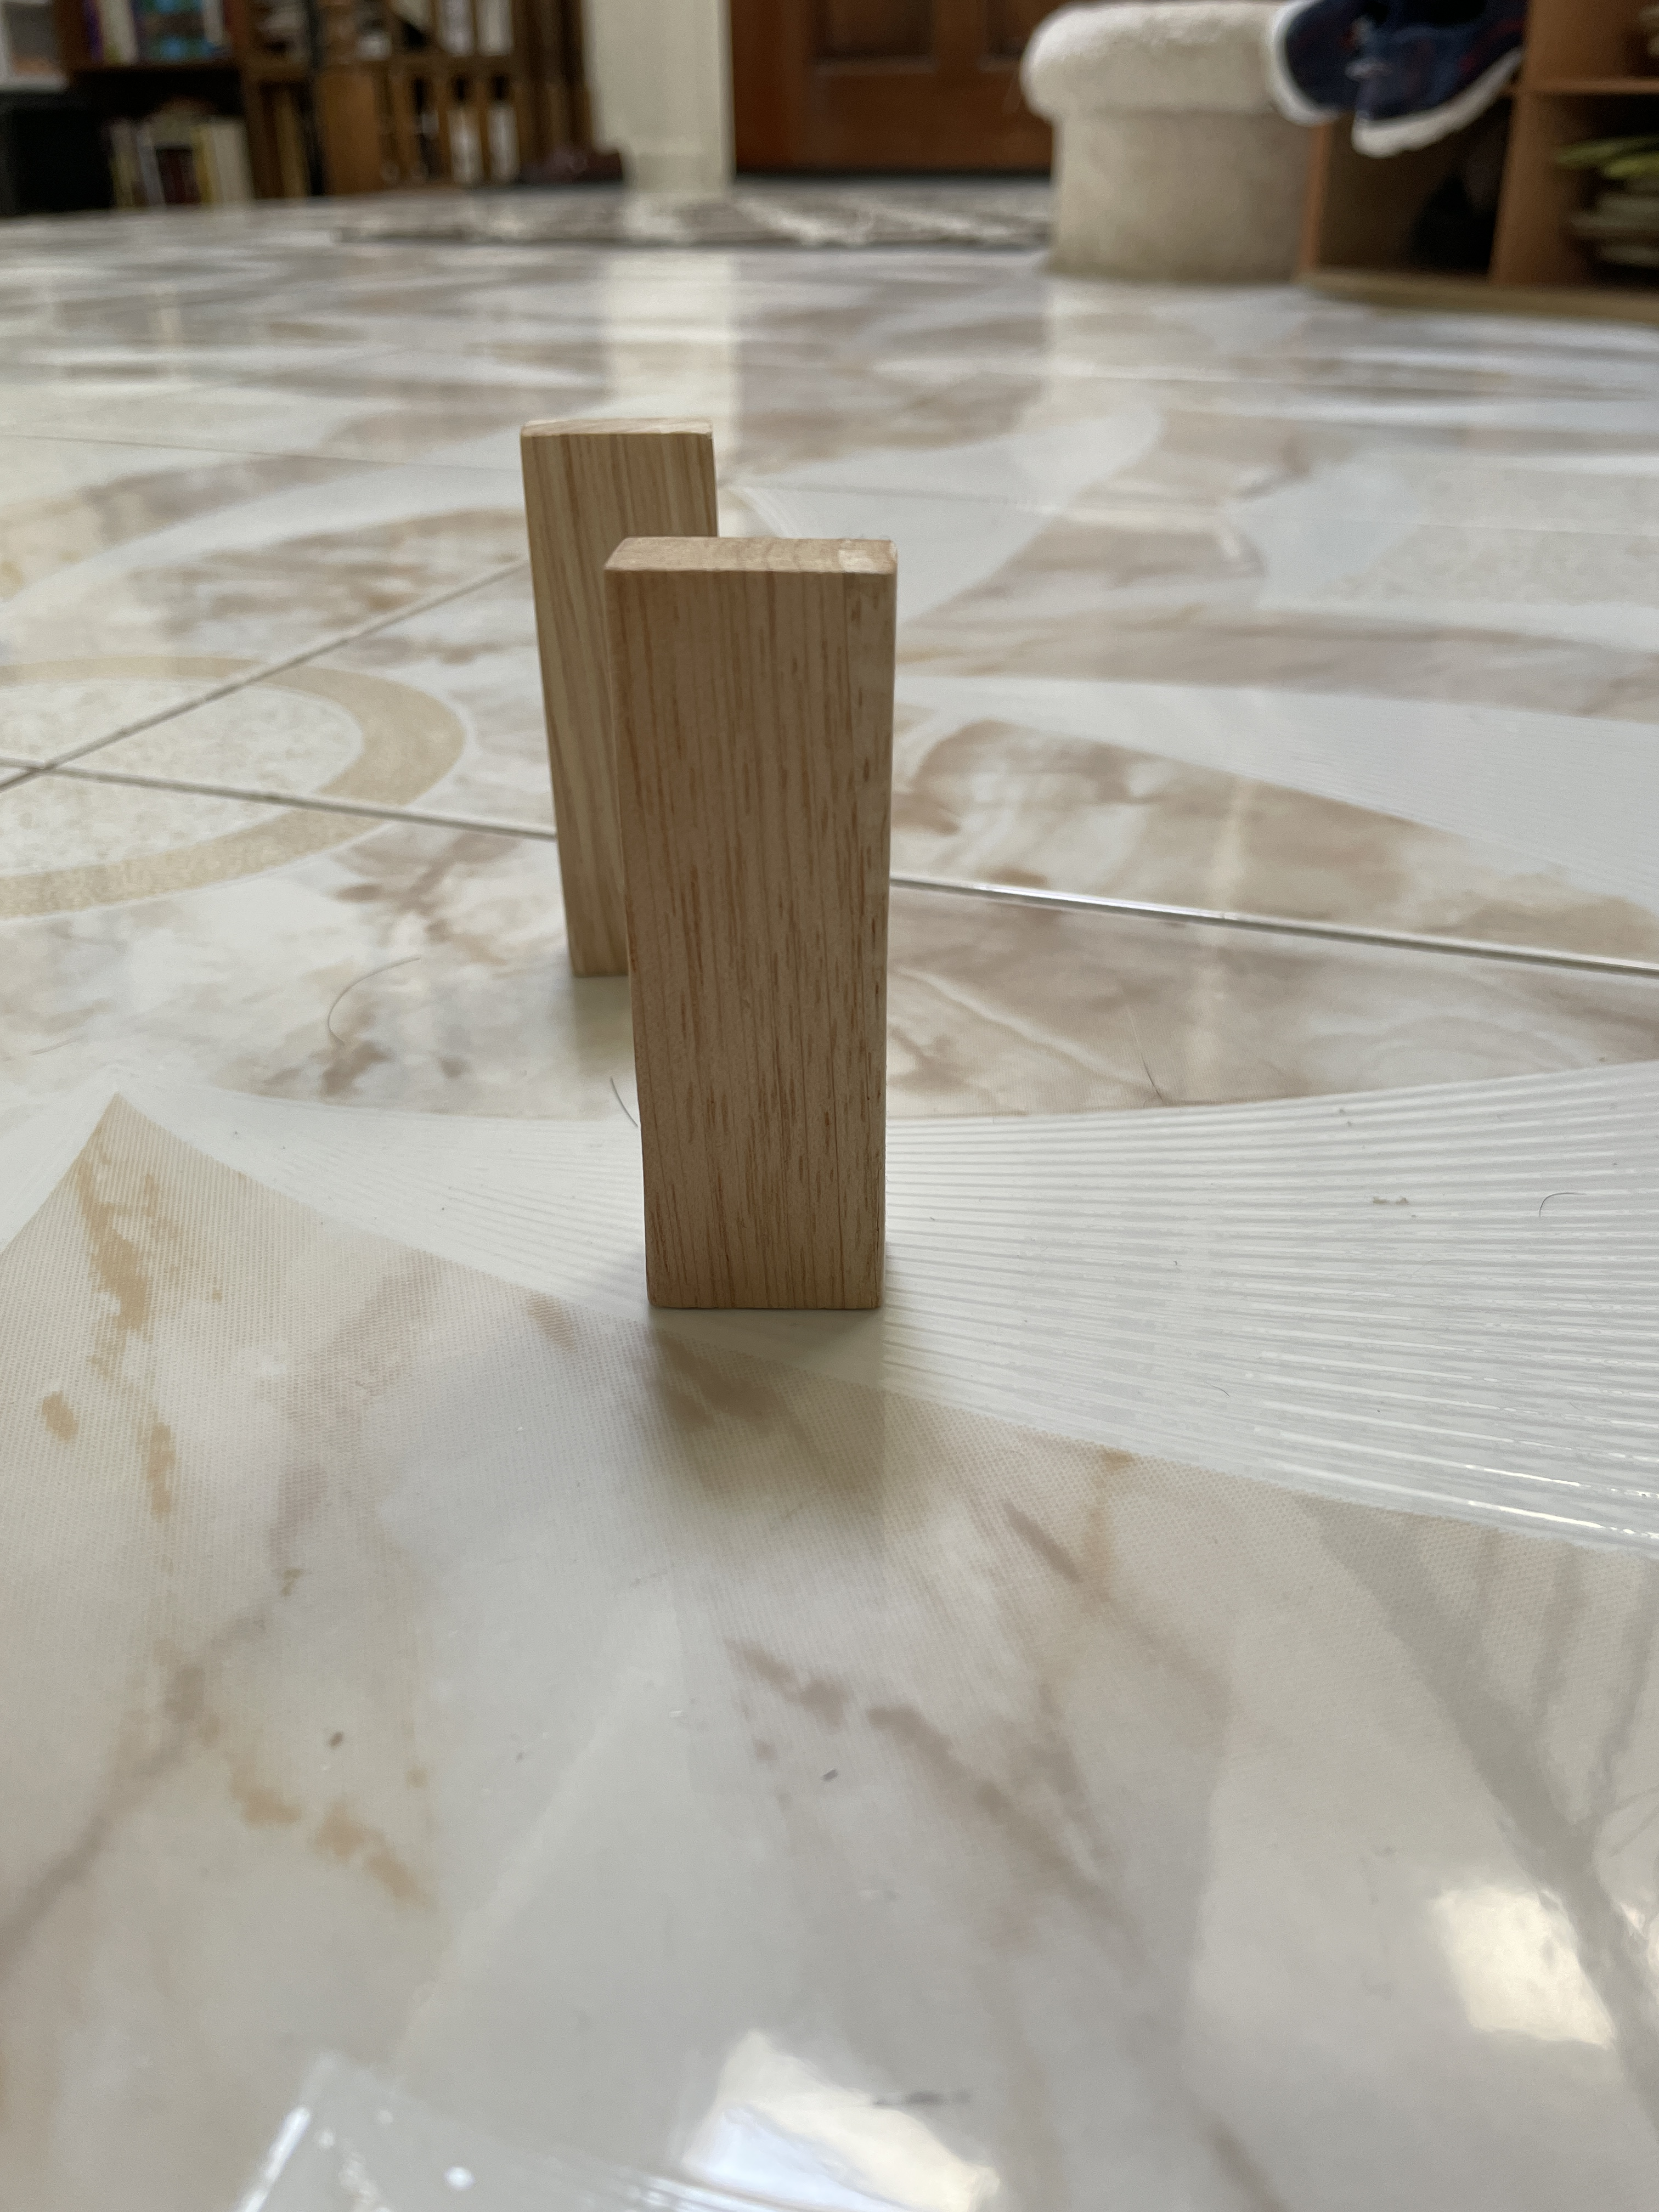jenga: (617, 531, 911, 1312), (525, 411, 739, 982)
